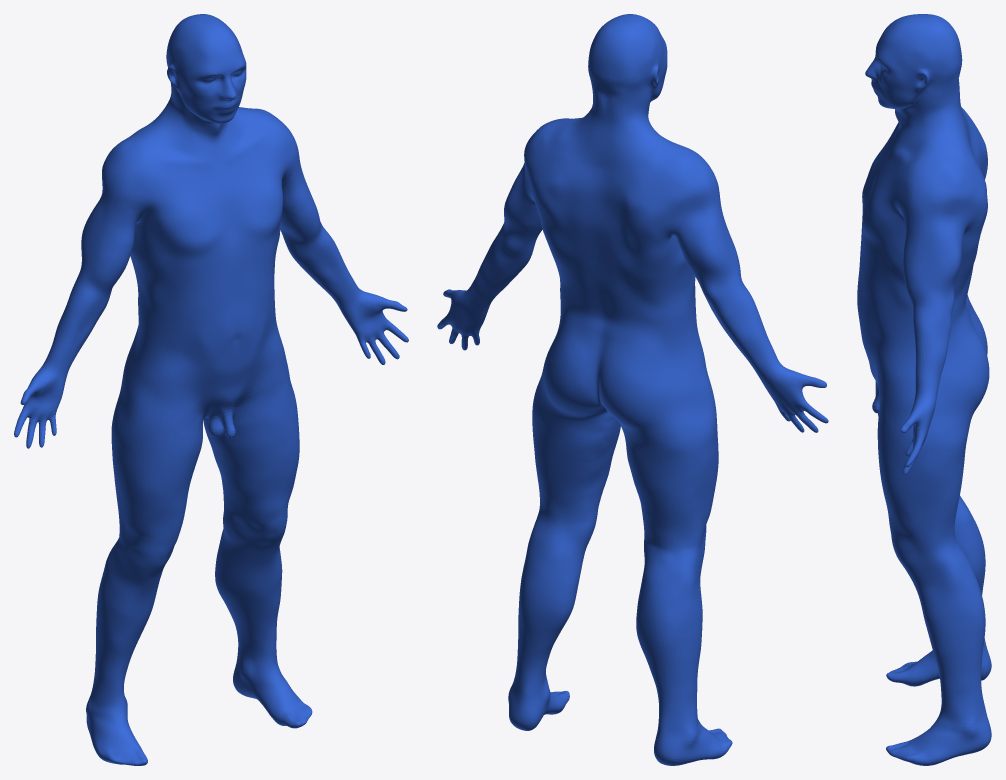
The model's file is VH_M_Skin_0.8.glb.
3 views of the same model, side by side, from view 1: azimuth 30°, elevation 25°; view 2: azimuth 150°, elevation 25°; view 3: azimuth 270°, elevation 25° (orthographic). The views are drawn at different scales.
Parts seen in each view (by area): view 1: VH_M_skin; view 2: VH_M_skin; view 3: VH_M_skin.
Boxes of the visible parts, left/top/right/bottom form: VH_M_skin: left=14, top=14, right=408, bottom=765; VH_M_skin: left=437, top=14, right=828, bottom=765; VH_M_skin: left=857, top=14, right=991, bottom=765.
Bounding box in the file's own units: 1.05 × 1.83 × 0.3162.
